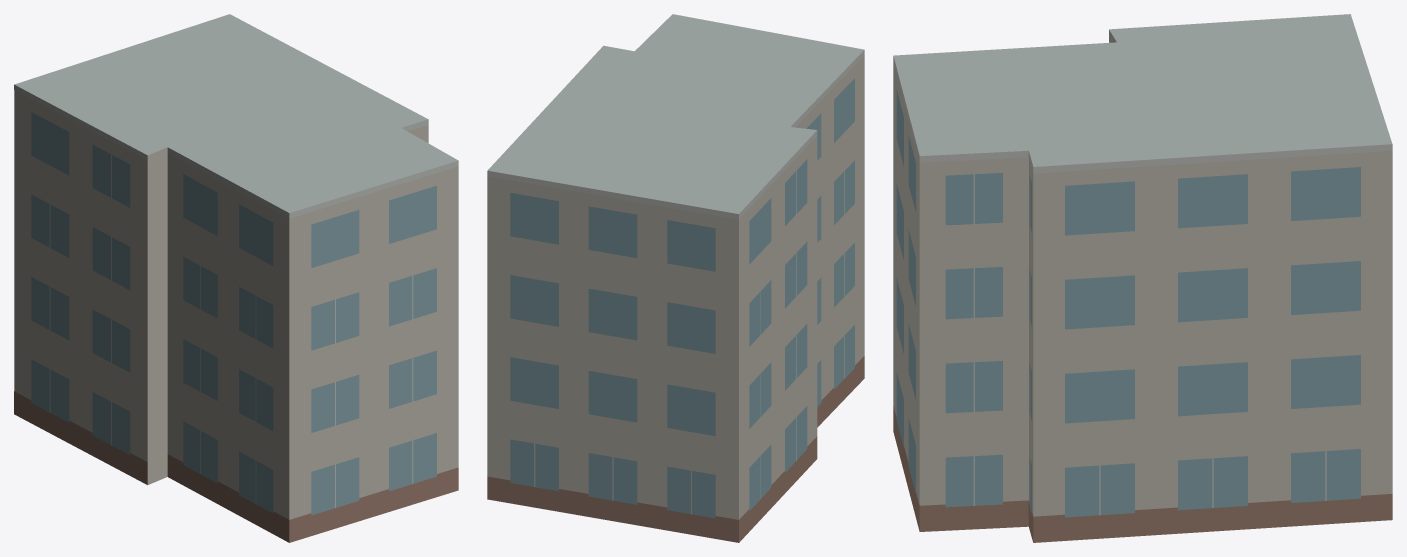
File: survey-upis-33041461.glb
3 renders of one model, left to right at view 1: azimuth 30°, elevation 25°; view 2: azimuth 150°, elevation 25°; view 3: azimuth 270°, elevation 25°, orthographic. The views are drawn at different scales.
Parts seen in each view (by area): view 1: survey-upis-33041461.tmp; view 2: survey-upis-33041461.tmp; view 3: survey-upis-33041461.tmp.
Part boxes in pixels (box(x1,y1,x2,y2)): survey-upis-33041461.tmp: box(14, 14, 458, 542); survey-upis-33041461.tmp: box(487, 14, 864, 542); survey-upis-33041461.tmp: box(893, 14, 1392, 542).
Bounding box in the file's own units: 12.49 × 14.3 × 17.22.
